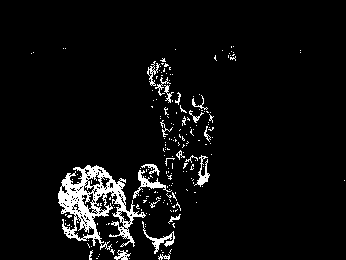person: (136, 162, 185, 260), (87, 168, 128, 260), (186, 93, 218, 192), (53, 164, 84, 256), (160, 91, 185, 177), (148, 57, 175, 94)
